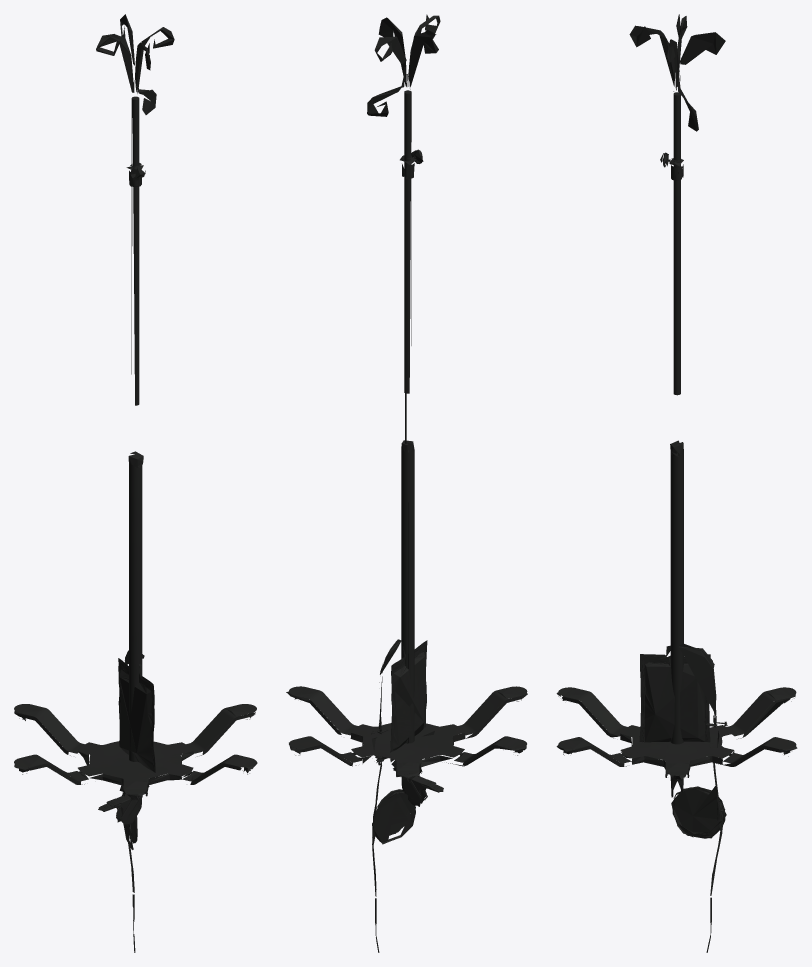
Rendered from blood_line_a02.glb.
3 renders of one model, left to right at view 1: azimuth 30°, elevation 25°; view 2: azimuth 150°, elevation 25°; view 3: azimuth 270°, elevation 25°, orthographic. The views are drawn at different scales.
Parts seen in each view (by area): view 1: geometry_0; view 2: geometry_0; view 3: geometry_0.
Part boxes in pixels (x1,y1,x2,y2): geometry_0: (14,14,257,952); geometry_0: (286,14,527,952); geometry_0: (556,14,797,952).
Size of the model in its own units: 0.1136 by 0.42 by 0.0998.
1 material, 1 textured.
